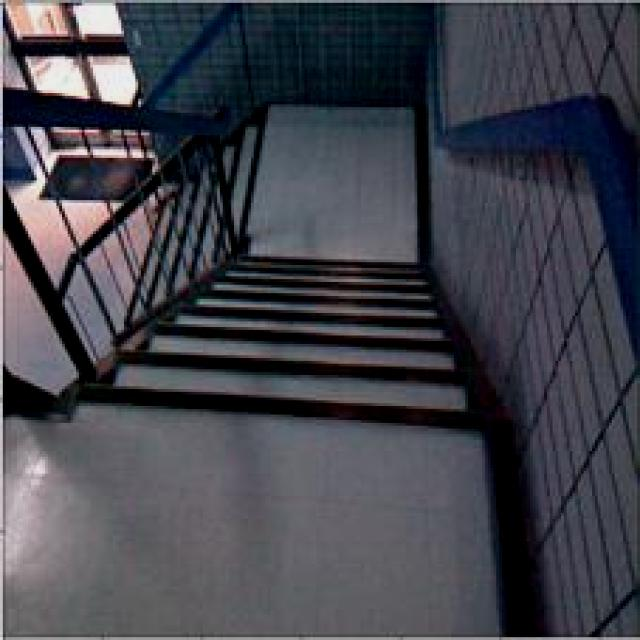stair: (102, 128, 514, 492)
